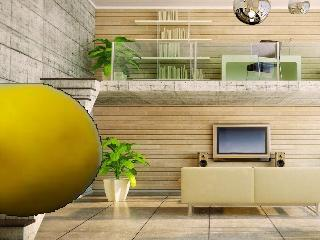lemon: (0, 82, 103, 217)
